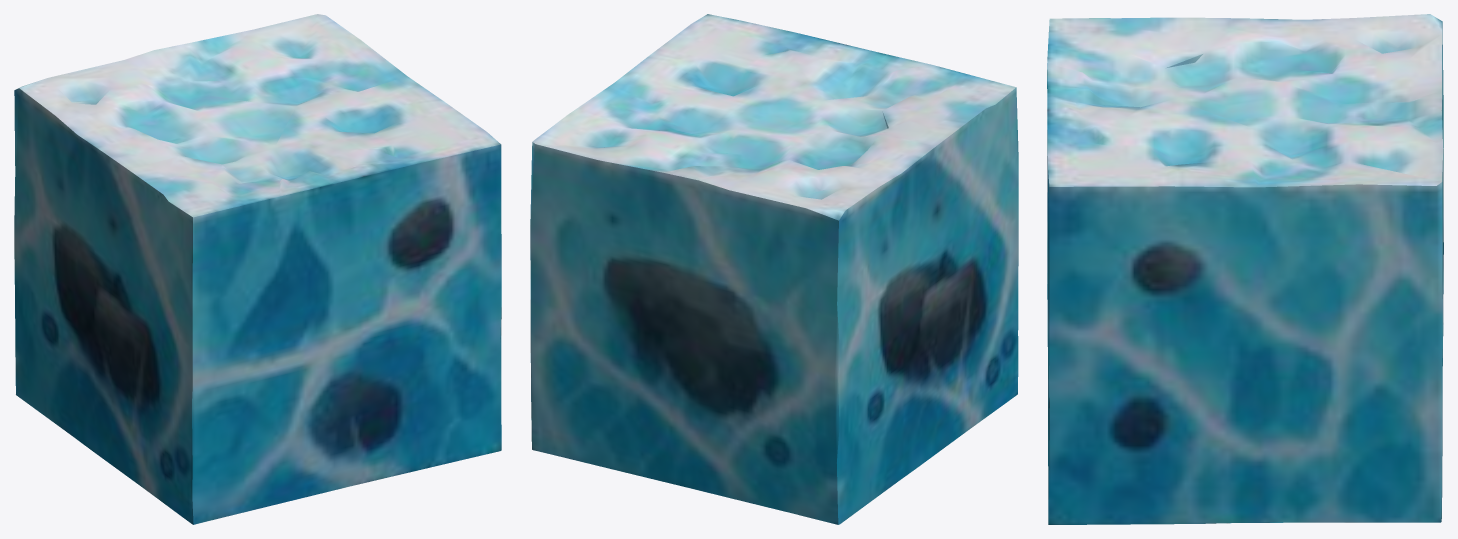
File: b_givre_mur_2.glb
3 renders of one model, left to right at view 1: azimuth 30°, elevation 25°; view 2: azimuth 150°, elevation 25°; view 3: azimuth 270°, elevation 25°, orthographic. The views are drawn at different scales.
Parts seen in each view (by area): view 1: geometry_0; view 2: geometry_0; view 3: geometry_0.
Boxes of the visible parts, x1,y1,x2,y2 form: geometry_0: (14, 14, 501, 524); geometry_0: (530, 14, 1018, 524); geometry_0: (1047, 14, 1443, 524).
Size of the model in its own units: 1 by 0.9574 by 1.
Materials: 1 (1 with a texture image).
